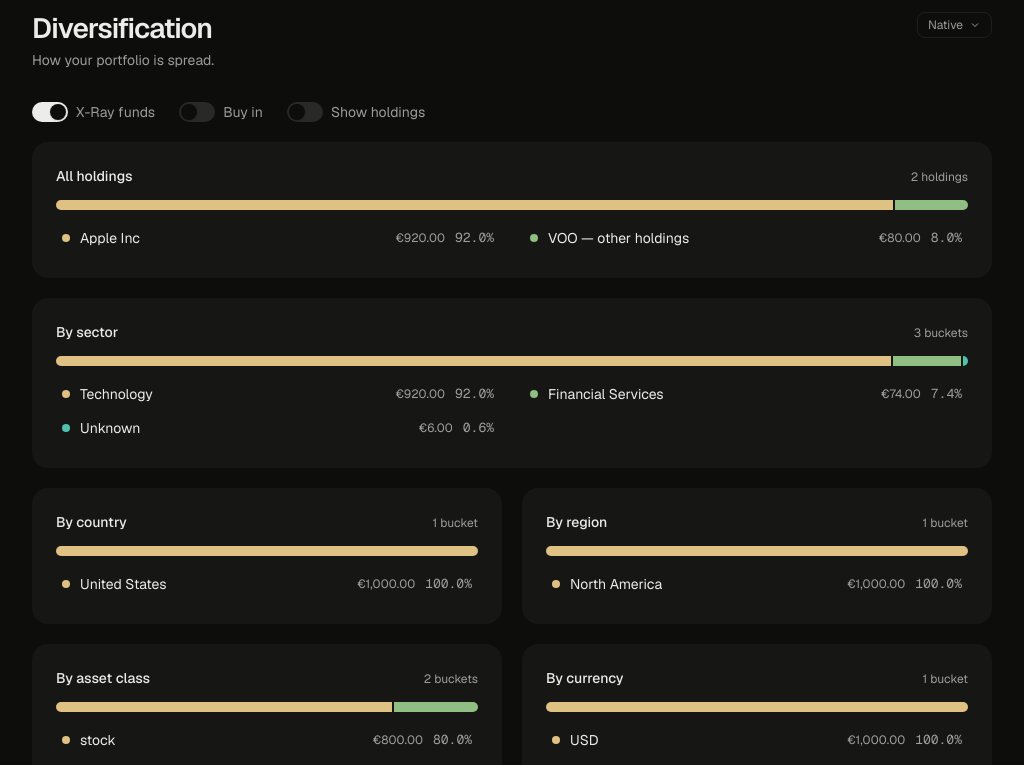
Test: DiversificationClient toggles › X-Ray is on by default, and switching it off folds funds back into one slice, without refetching
Expected: the text "Financial Services" is shown, [548,385,664,403]
Expected: the text "VOO — other holdings" is shown, [548,229,689,247]
Click the switch named "X-Ray funds" next to "X-Ray funds" at x=50, y=112, box [32,102,68,122]
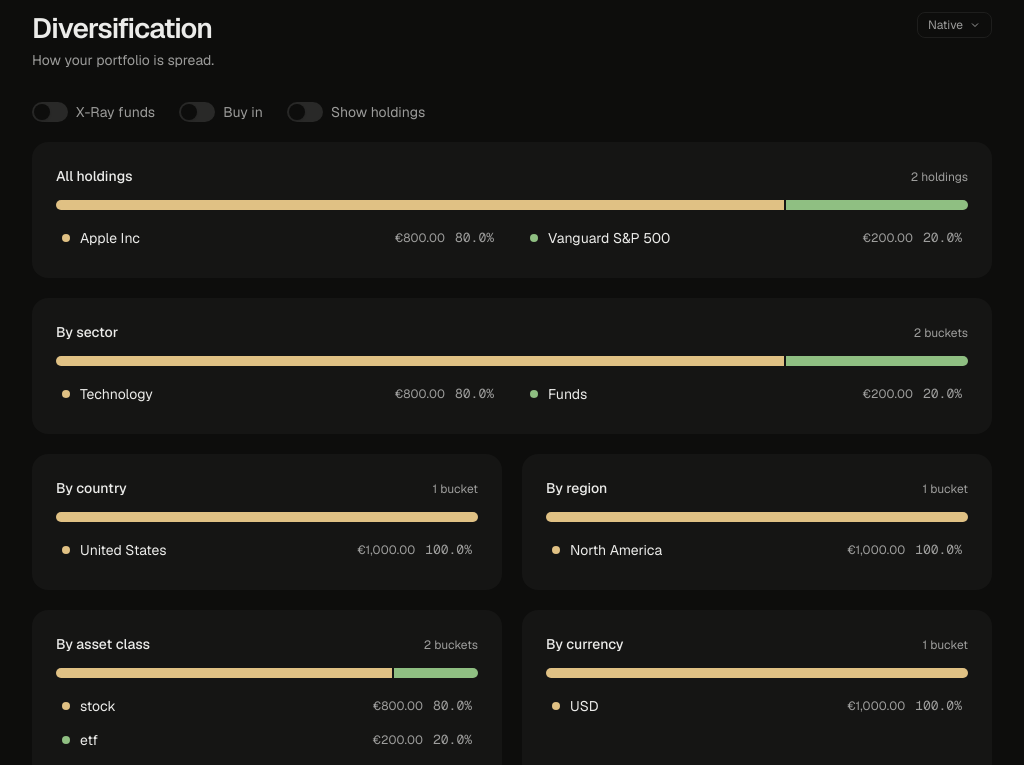
Expected: the text "Funds" is shown, [548,385,587,403]
Expected: the text "Financial Services" is gone
